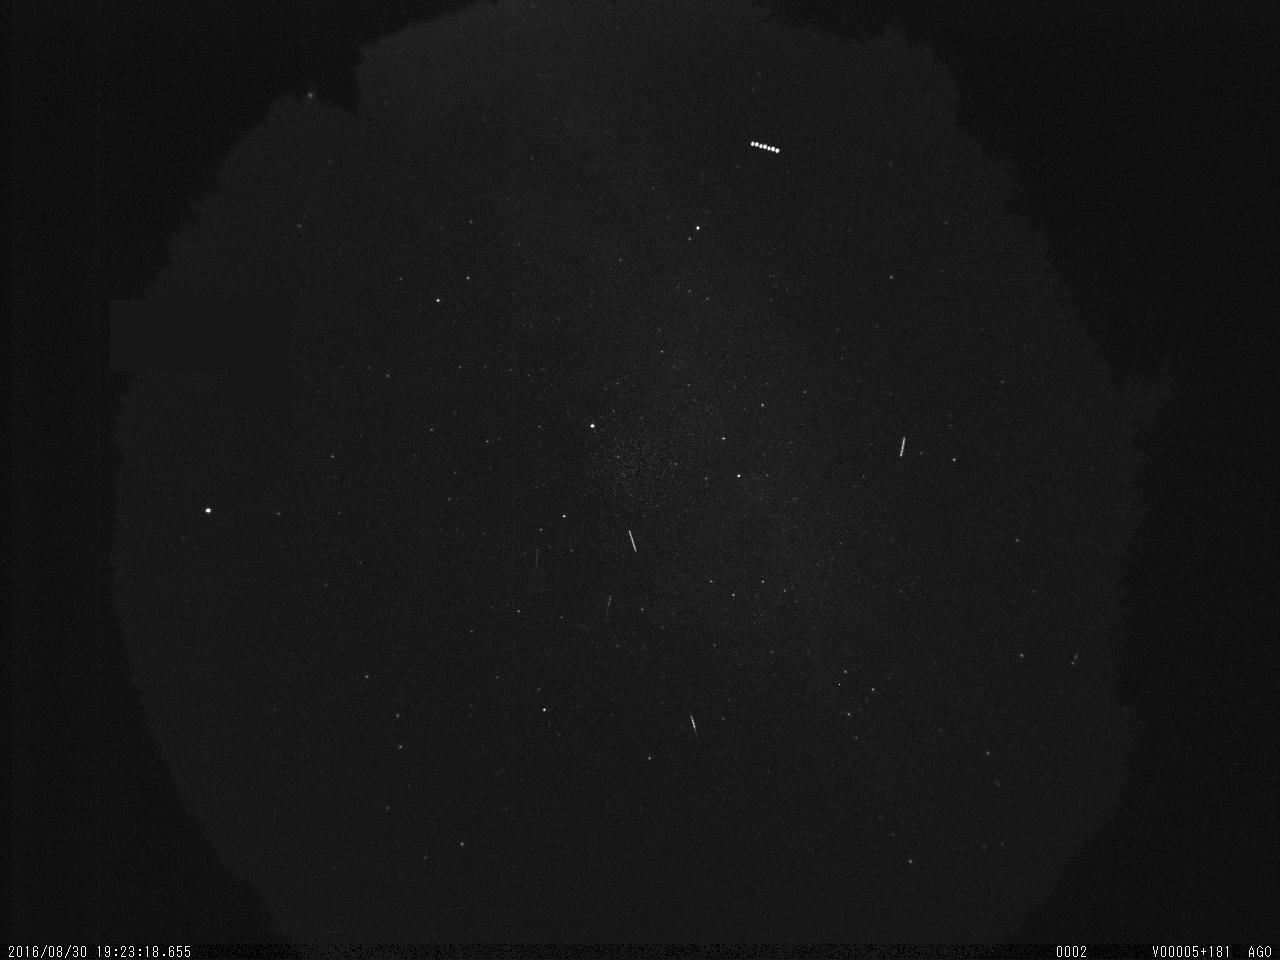Meteor: (601, 588, 617, 624), (688, 710, 702, 744)
